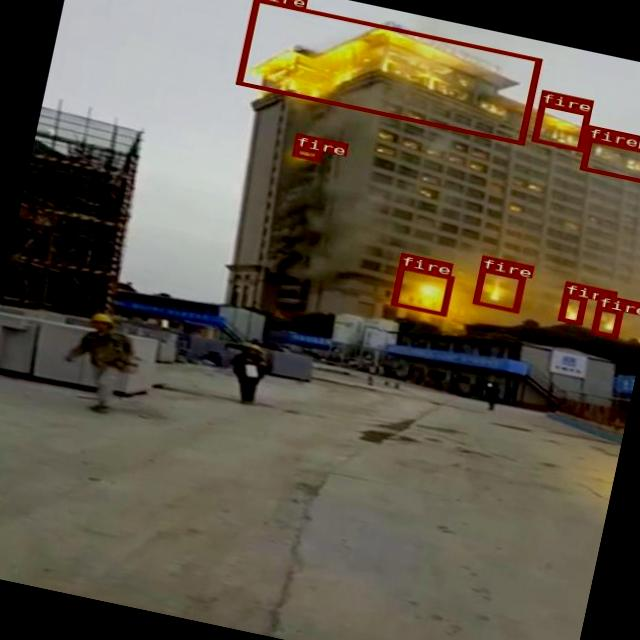fire: (234, 0, 541, 143), (390, 264, 452, 316), (577, 136, 640, 187), (530, 102, 588, 152), (472, 266, 524, 312), (590, 305, 622, 337), (557, 293, 586, 324), (290, 145, 320, 161)
